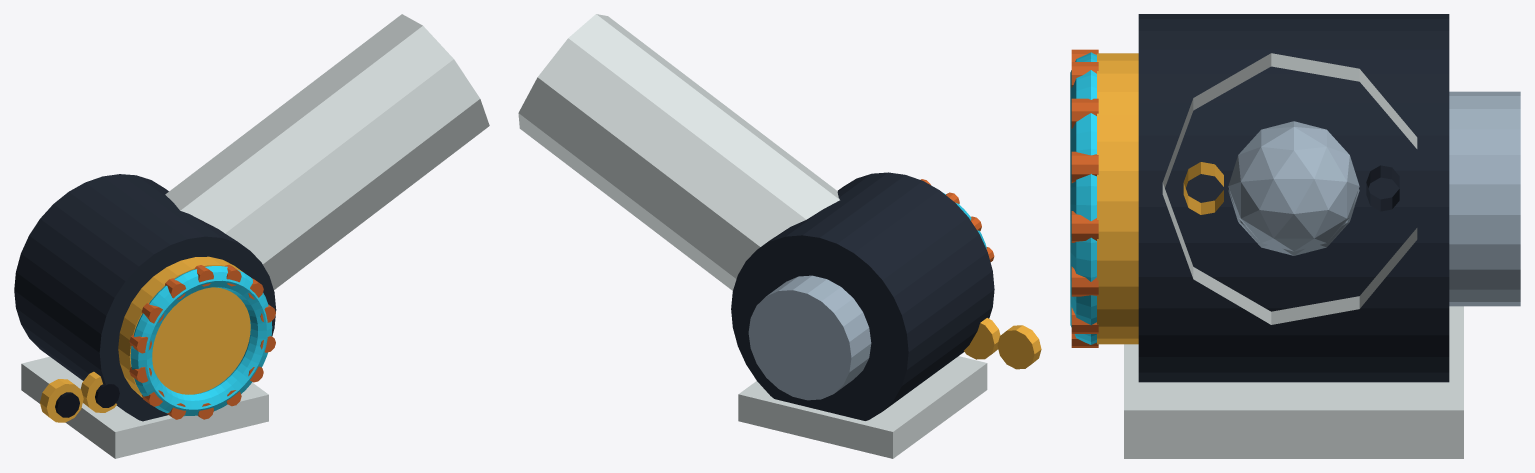
Rendered from 11_L86_RobotJoint4Elbow.fbx.
3 renders of one model, left to right at view 1: azimuth 30°, elevation 25°; view 2: azimuth 150°, elevation 25°; view 3: azimuth 270°, elevation 25°, orthographic. The views are drawn at different scales.
Visible parts, largest first — view 1: L86_RobotJoint4Elbow_Part_0005, L86_RobotJoint4Elbow_Part_0000, L86_RobotJoint4Elbow_Part_0001, L86_RobotJoint4Elbow_Part_0002, L86_RobotJoint4Elbow_Part_0004, L86_RobotJoint4Elbow_Part_0006, L86_RobotJoint4Elbow_Part_0008, L86_RobotJoint4Elbow_Part_0007, L86_RobotJoint4Elbow_Part_0009; view 2: L86_RobotJoint4Elbow_Part_0005, L86_RobotJoint4Elbow_Part_0000, L86_RobotJoint4Elbow_Part_0003, L86_RobotJoint4Elbow_Part_0006, L86_RobotJoint4Elbow_Part_0008; view 3: L86_RobotJoint4Elbow_Part_0000, L86_RobotJoint4Elbow_Part_0005, L86_RobotJoint4Elbow_Part_0003, L86_RobotJoint4Elbow_Part_0001, L86_RobotJoint4Elbow_Part_0002, L86_RobotJoint4Elbow_Part_0004.
Boxes of the visible parts, x1=… form: L86_RobotJoint4Elbow_Part_0005: x1=21, y1=14, x2=489, y2=458; L86_RobotJoint4Elbow_Part_0000: x1=14, y1=174, x2=276, y2=421; L86_RobotJoint4Elbow_Part_0001: x1=118, y1=256, x2=250, y2=397; L86_RobotJoint4Elbow_Part_0002: x1=130, y1=266, x2=272, y2=416; L86_RobotJoint4Elbow_Part_0004: x1=129, y1=264, x2=275, y2=419; L86_RobotJoint4Elbow_Part_0006: x1=40, y1=379, x2=83, y2=422; L86_RobotJoint4Elbow_Part_0008: x1=80, y1=371, x2=116, y2=412; L86_RobotJoint4Elbow_Part_0007: x1=55, y1=392, x2=79, y2=417; L86_RobotJoint4Elbow_Part_0009: x1=95, y1=384, x2=119, y2=407; L86_RobotJoint4Elbow_Part_0005: x1=518, y1=14, x2=987, y2=458; L86_RobotJoint4Elbow_Part_0000: x1=731, y1=172, x2=994, y2=420; L86_RobotJoint4Elbow_Part_0003: x1=748, y1=275, x2=871, y2=400; L86_RobotJoint4Elbow_Part_0006: x1=997, y1=325, x2=1041, y2=369; L86_RobotJoint4Elbow_Part_0008: x1=964, y1=318, x2=1000, y2=359; L86_RobotJoint4Elbow_Part_0000: x1=1138, y1=14, x2=1449, y2=382; L86_RobotJoint4Elbow_Part_0005: x1=1124, y1=53, x2=1463, y2=458; L86_RobotJoint4Elbow_Part_0003: x1=1228, y1=91, x2=1520, y2=306; L86_RobotJoint4Elbow_Part_0001: x1=1097, y1=53, x2=1223, y2=344; L86_RobotJoint4Elbow_Part_0002: x1=1070, y1=52, x2=1096, y2=344; L86_RobotJoint4Elbow_Part_0004: x1=1071, y1=49, x2=1098, y2=347.
Size of the model in its own units: 163 by 107 by 75.5.
